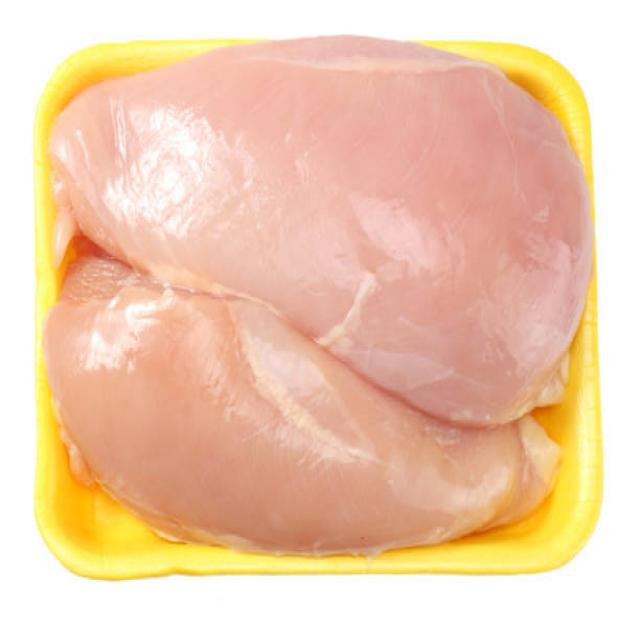Chicken: (52, 0, 600, 294), (41, 314, 519, 582)
